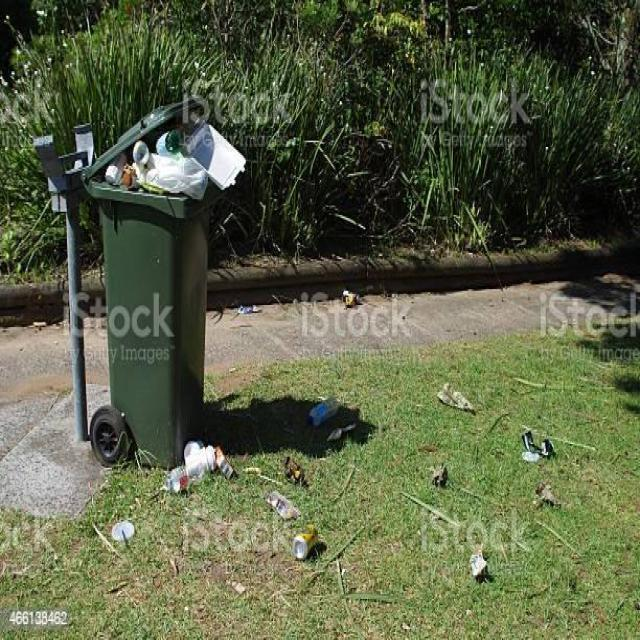bottle: (161, 445, 218, 496), (307, 388, 342, 434), (154, 130, 187, 156), (105, 152, 123, 185), (132, 140, 150, 166)
